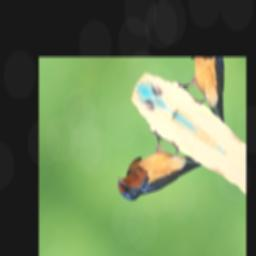Swallow: (111, 119, 204, 232)
